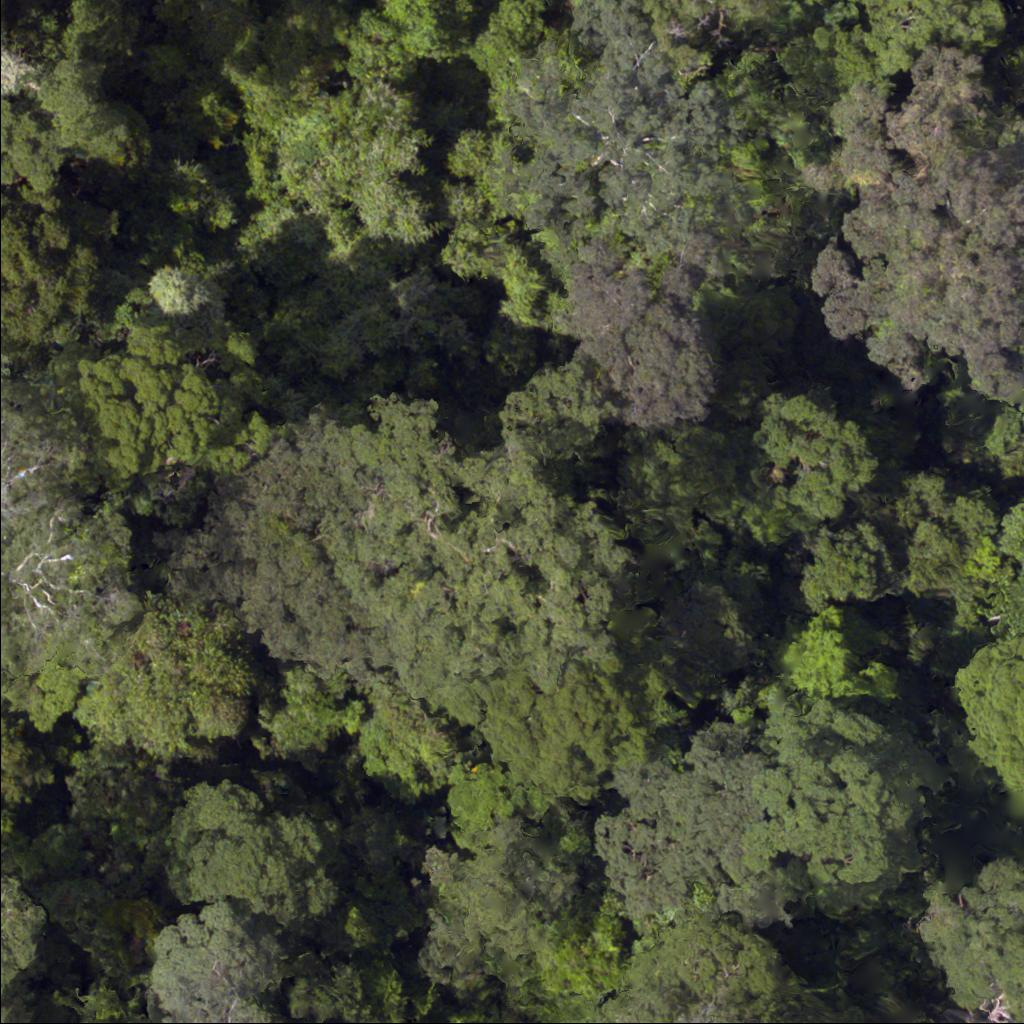crown: (0, 387, 133, 693), (76, 325, 272, 484), (170, 789, 330, 924), (0, 195, 91, 344), (153, 909, 278, 1012), (0, 889, 31, 985), (178, 992, 265, 1023)
